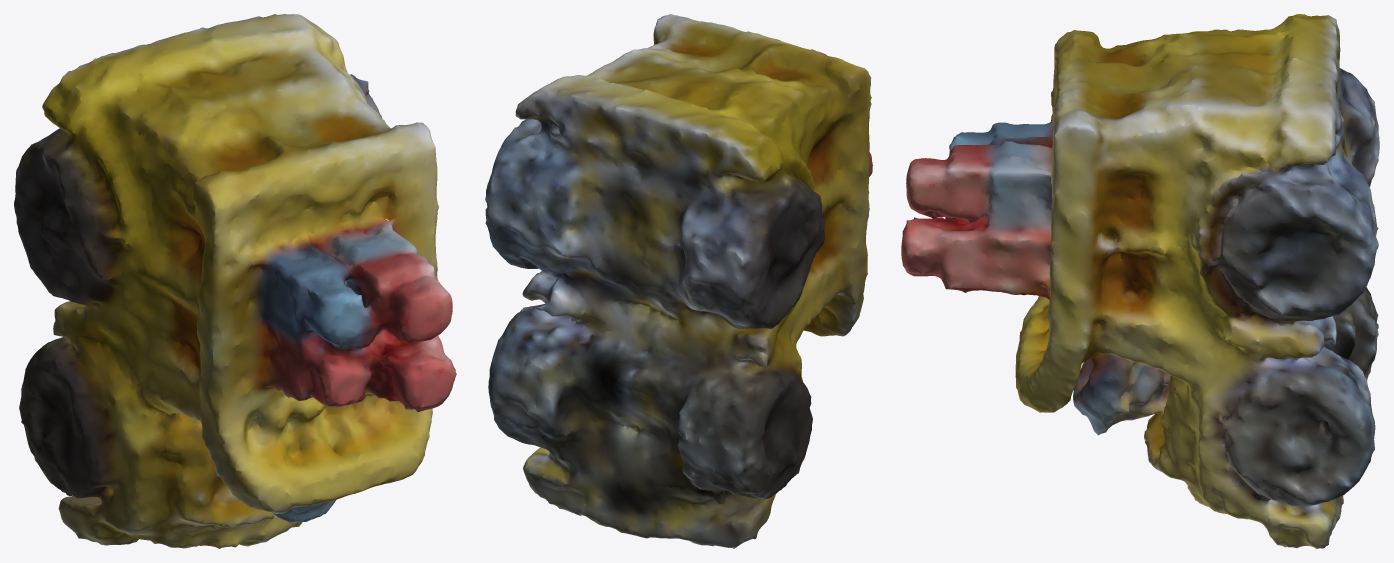
The model's file is school_bus2.glb.
3 renders of one model, left to right at view 1: azimuth 30°, elevation 25°; view 2: azimuth 150°, elevation 25°; view 3: azimuth 270°, elevation 25°, orthographic. The views are drawn at different scales.
Size of the model in its own units: 0.6994 by 0.9959 by 0.9528.
